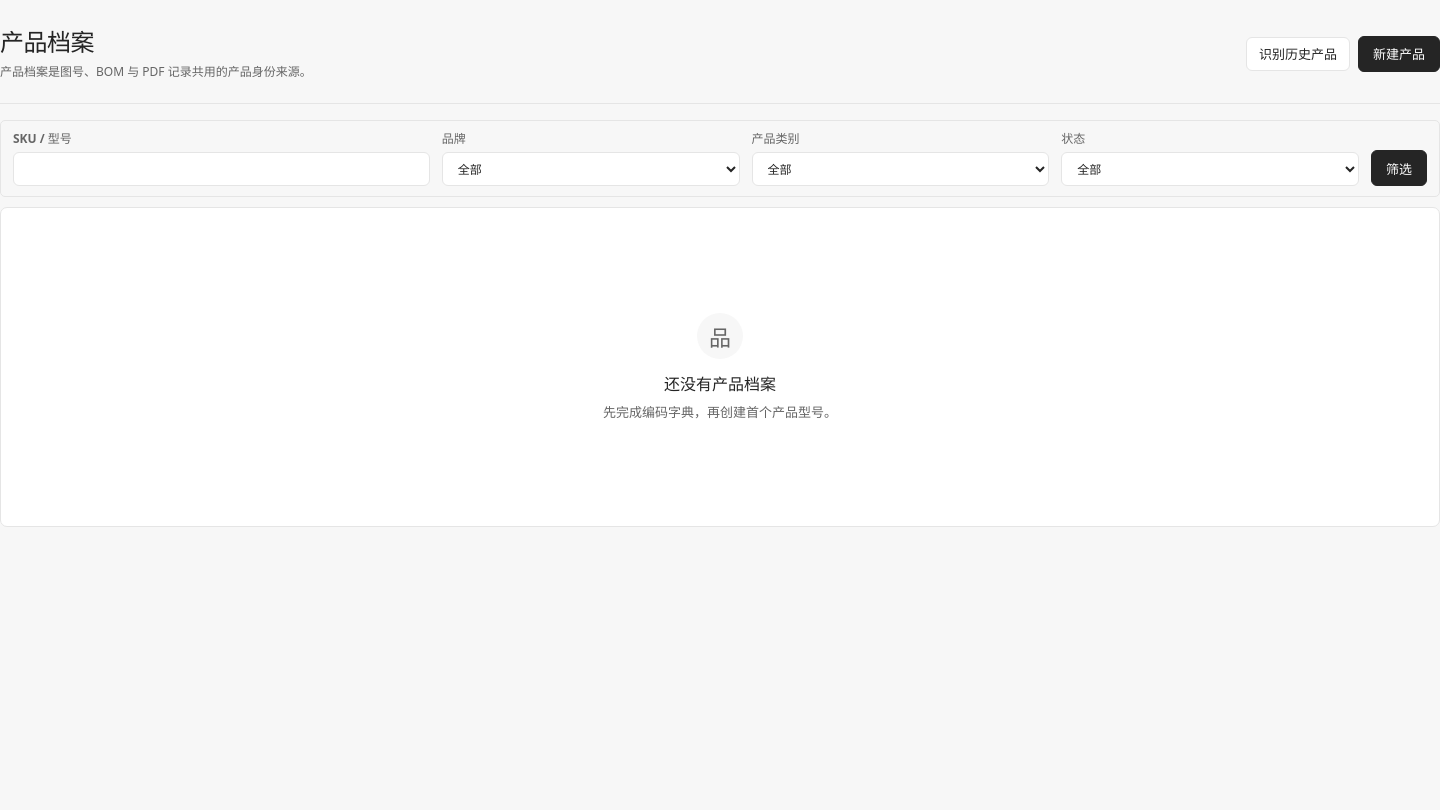
Test case: ProductsPage › keeps historical product recognition secondary and requires explicit dictionary-backed confirmation
Expected: the heading "还没有产品档案" is shown, [664,371,776,395]
Expected: the text "SKDZU070JP" is not shown
Click the button "识别历史产品" at (1298, 54), box [1246,36,1350,70]
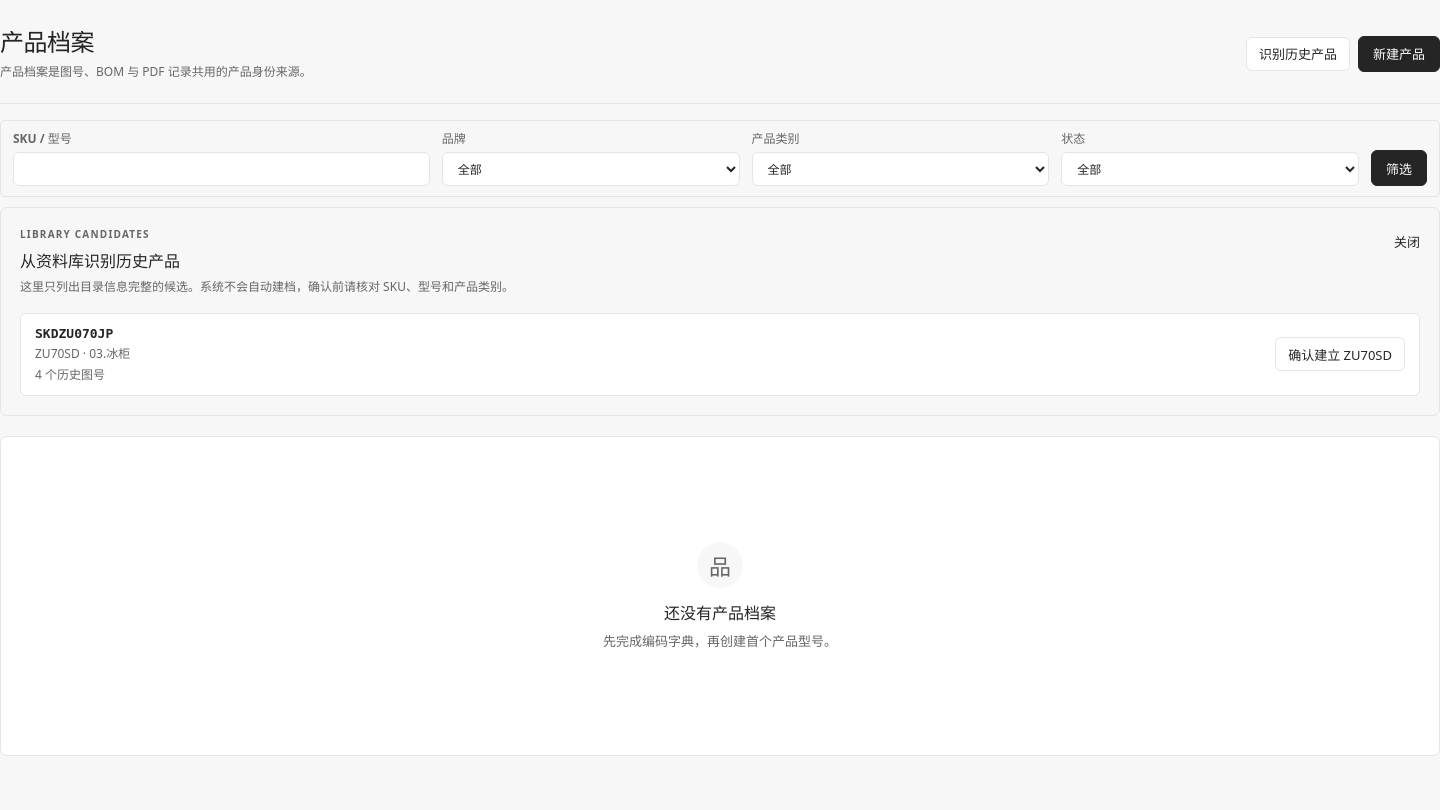
Now the text "SKDZU070JP" is shown, box [35,326,113,341]
Now the text "4 个历史图号" is shown, box [35,366,105,383]
Click the button "确认建立 ZU70SD" at (1340, 354), box [1275,337,1405,371]
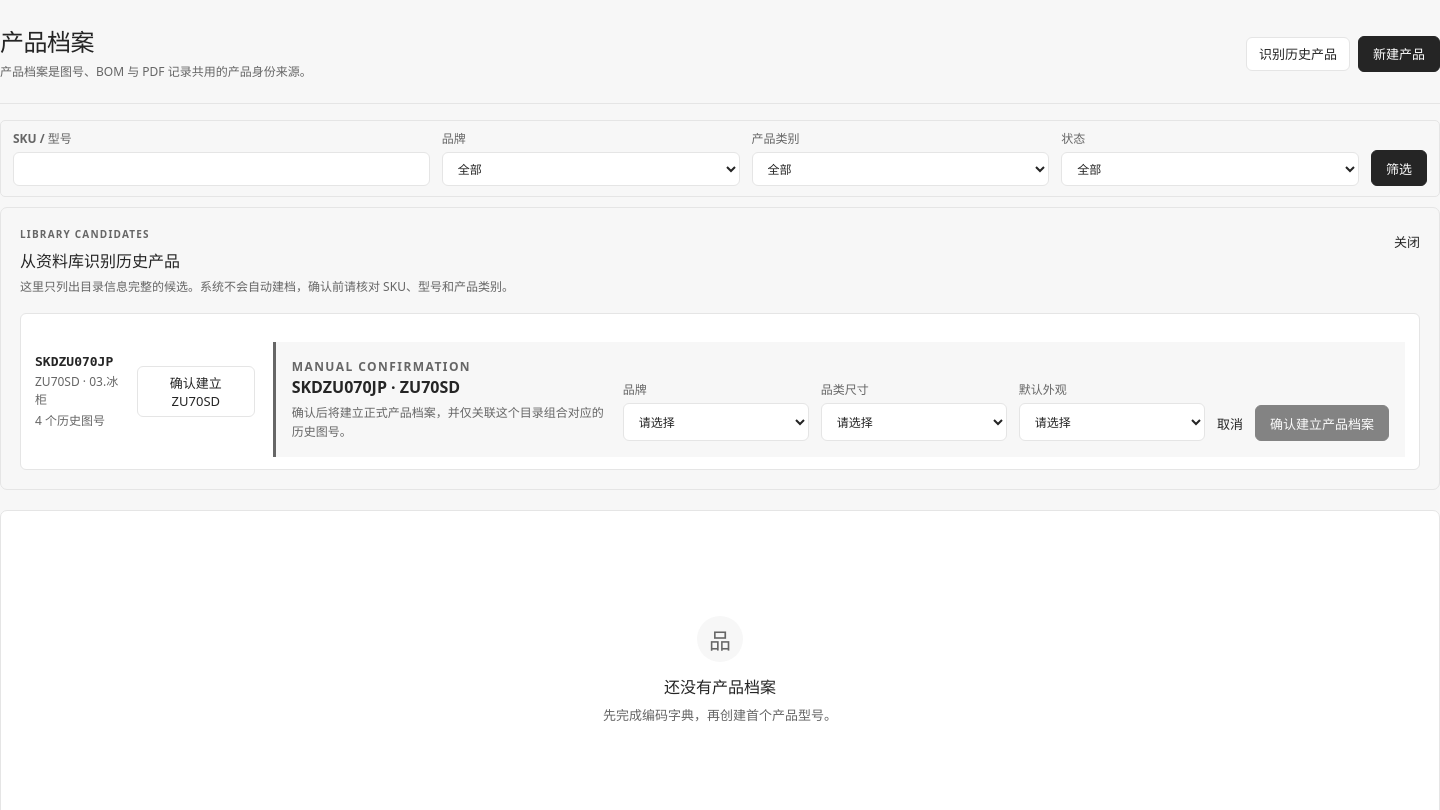
Now the button "确认建立产品档案" is disabled, box [1255,405,1389,441]
Select "SAMKYO" in the dropdown named "历史产品品牌" at (716, 422), box [623,403,809,441]
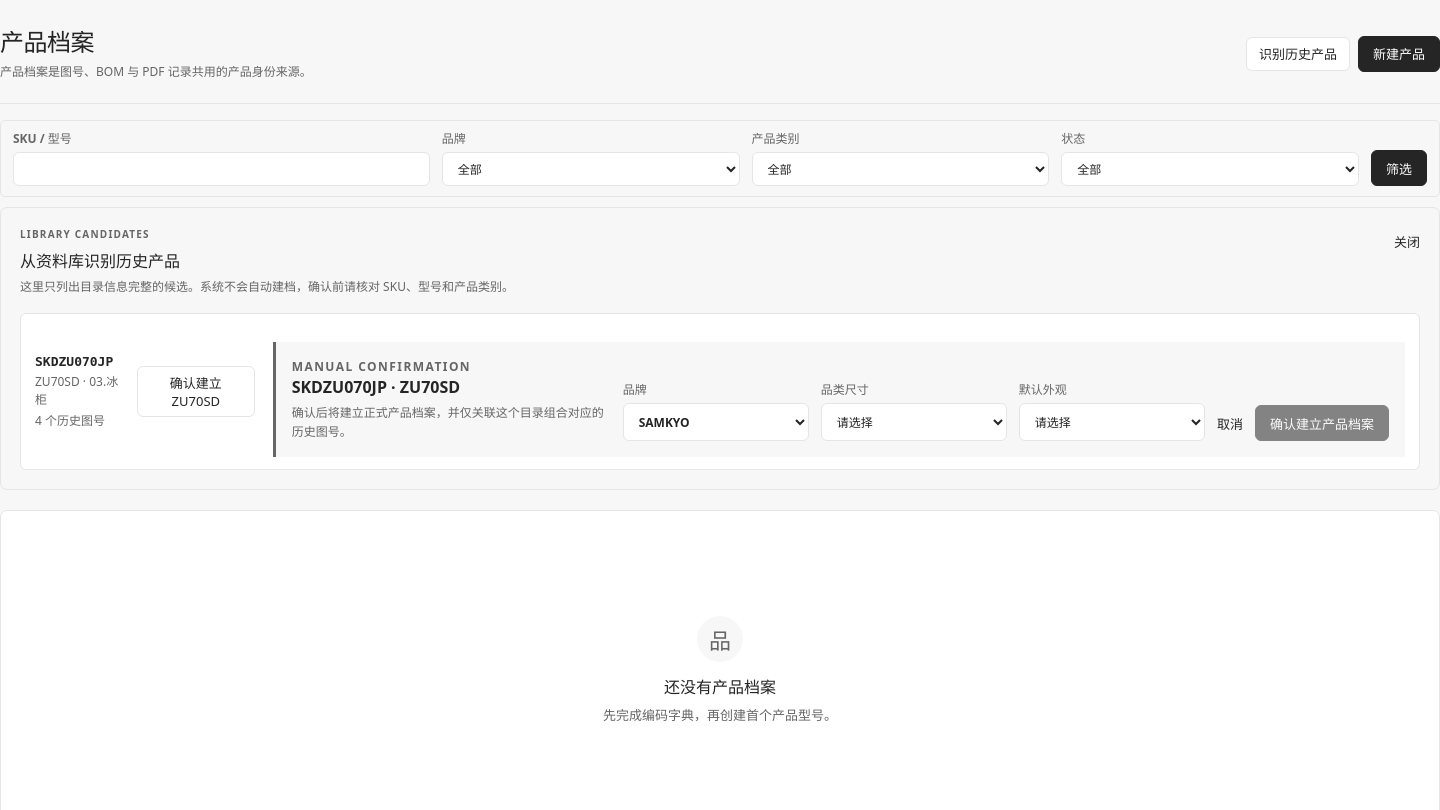
Select "冰柜" in the dropdown named "历史产品品类尺寸" at (914, 422), box [821,403,1007,441]
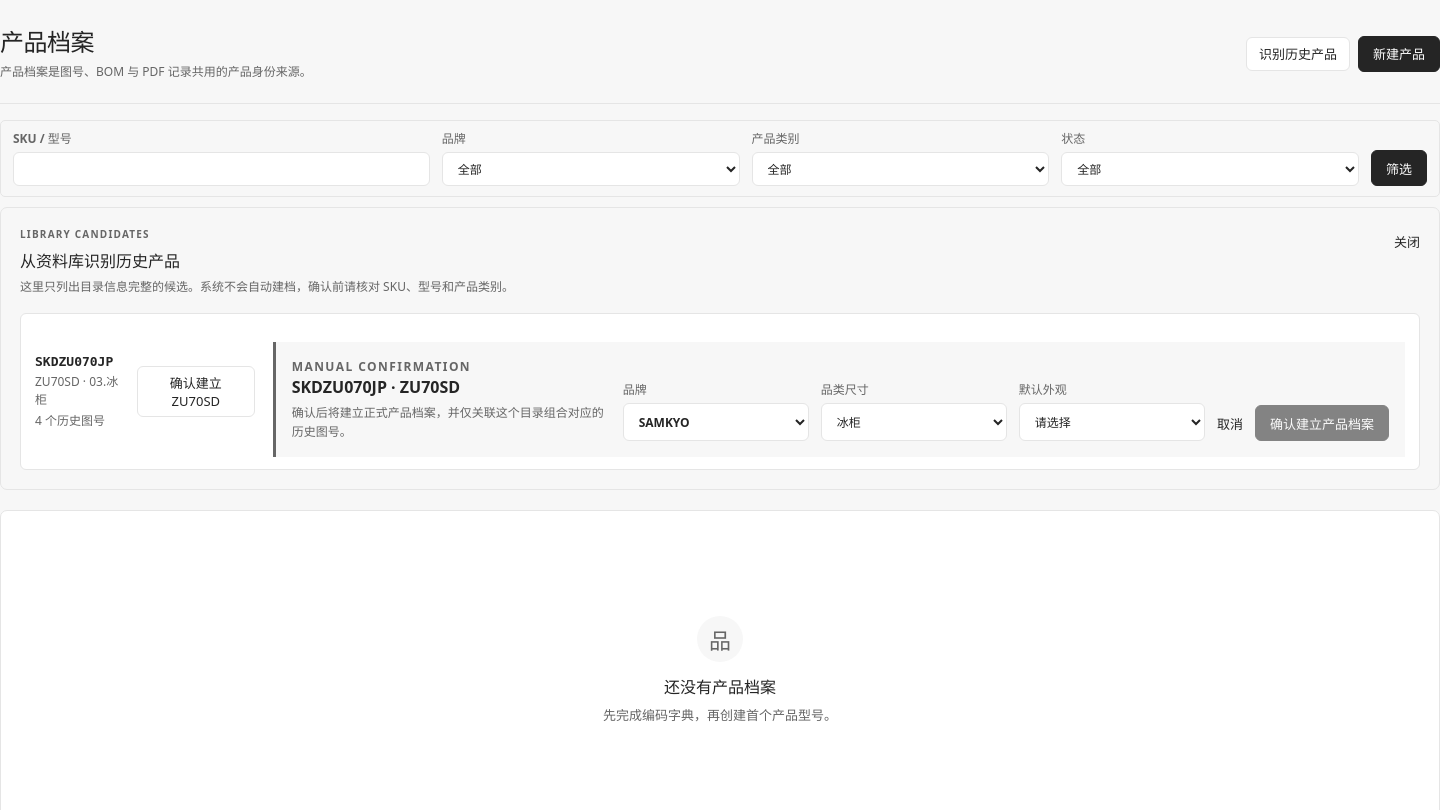
Select "1号外观" in the dropdown named "历史产品默认外观" at (1112, 422), box [1019,403,1205,441]
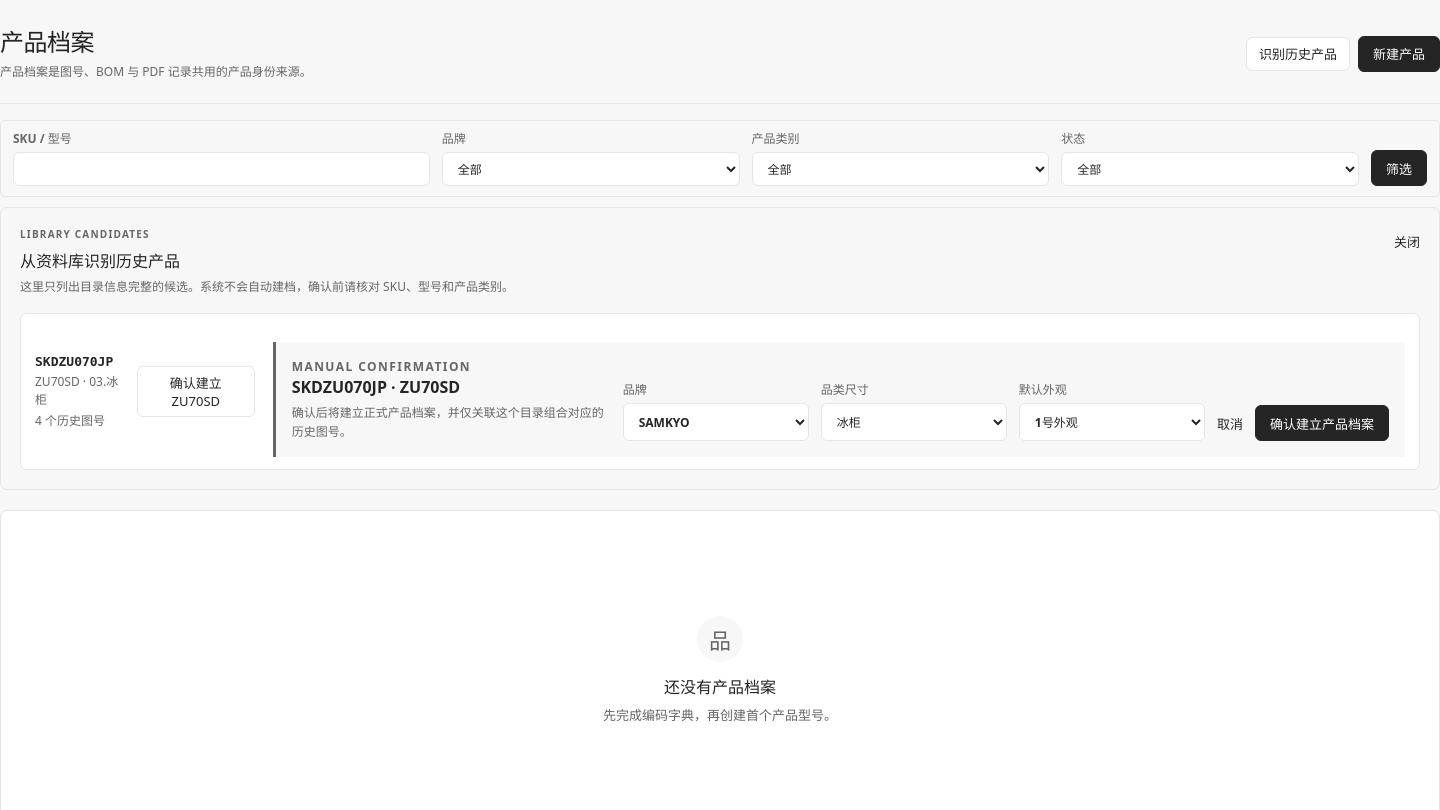
Click the button "确认建立产品档案" at (1322, 423), box [1255,405,1389,441]
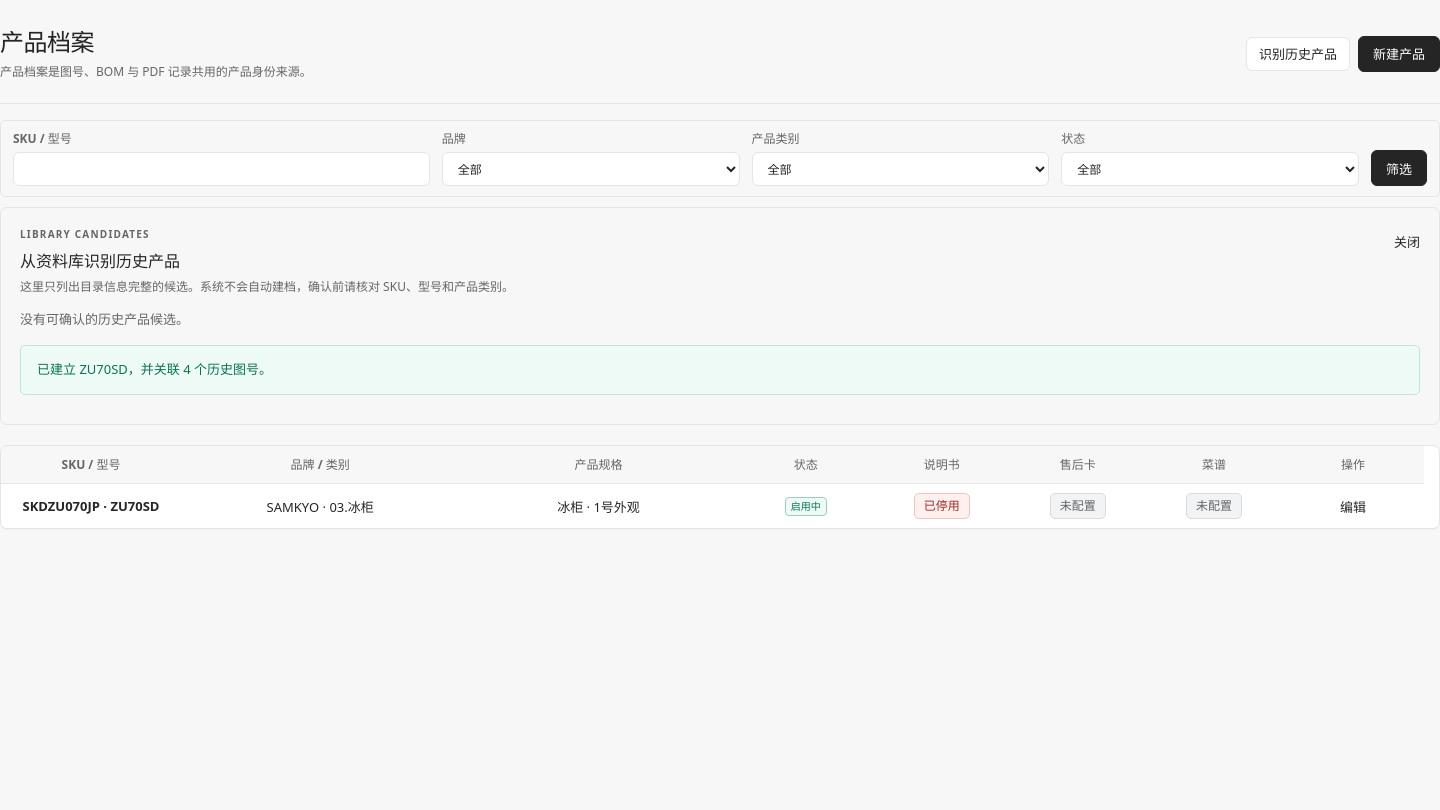
Now the text "已建立 ZU70SD，并关联 4 个历史图号。" is shown, box [20,345,1420,395]
Now the text "SKDZU070JP · ZU70SD" is shown, box [22,497,159,515]
Now the button with aria-label "说明书 · 已停用" is shown, box [914,493,970,519]
